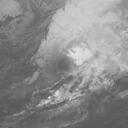cyclone: (33, 36, 110, 98)
